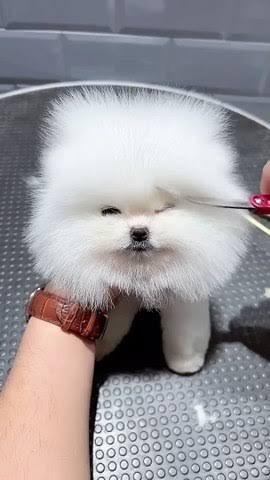puppy-dog: (24, 89, 250, 375)
